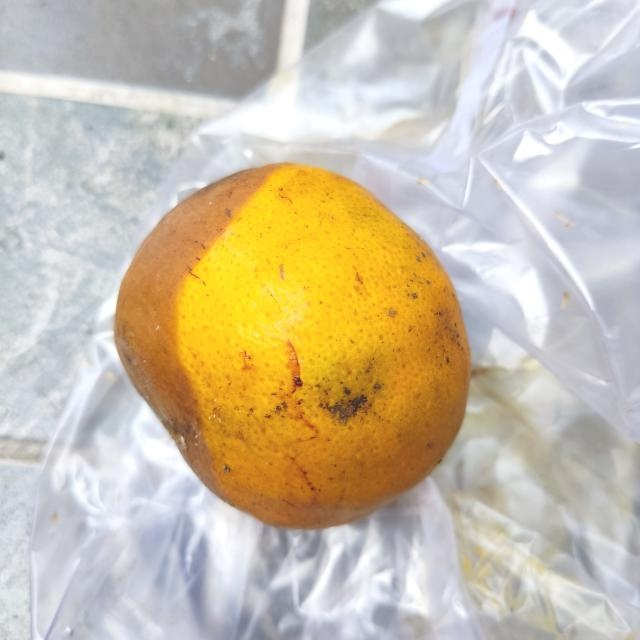agrume: (107, 161, 477, 533)
